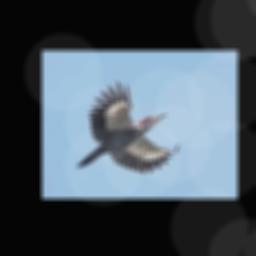Woodpecker: (76, 81, 180, 173)
